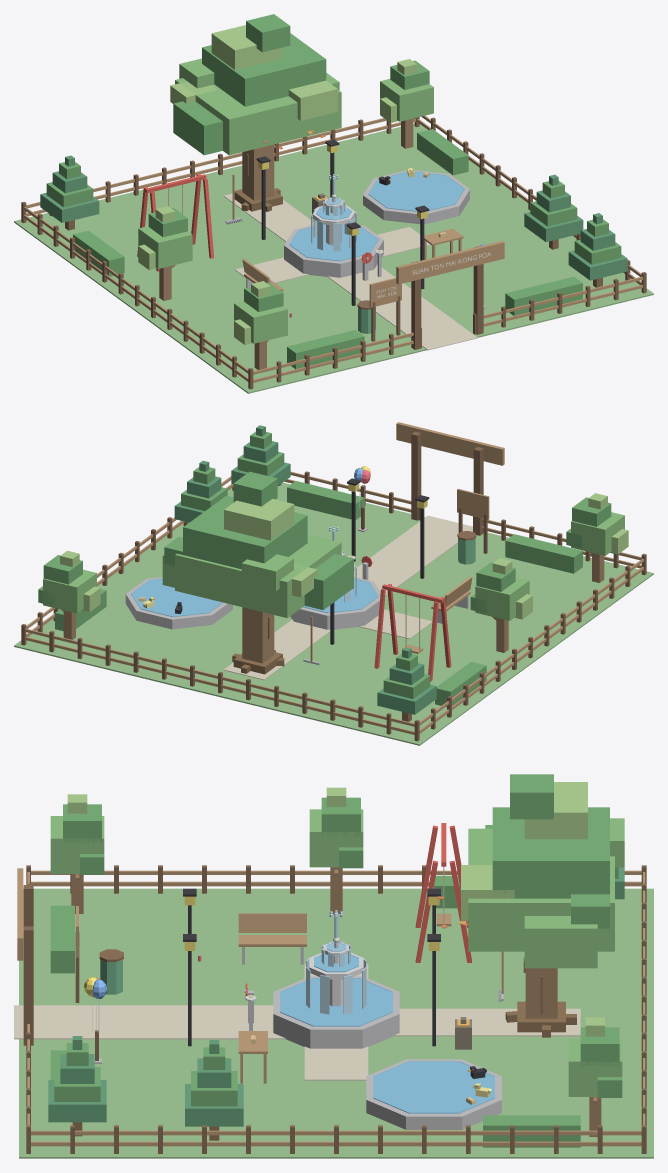
Rendered from house4_park.fbx.
The picture shows the model from 3 angles, top to bottom: view 1: azimuth 30°, elevation 25°; view 2: azimuth 150°, elevation 25°; view 3: azimuth 270°, elevation 25°; orthographic projection. The views are drawn at different scales.
Parts seen in each view (by area): view 1: grass, leaves, fence, path, canopy, fencepost, treetop.004, pondwater, treetop, treetop.003, treetop.001, treetop.002 (+17 smaller); view 2: grass, leaves, fence, path, canopy, fencepost, treetop.004, treetop.003, treetop, treetop.002, tonmaipoa, treetop.001 (+15 smaller); view 3: grass, leaves, path, fence, canopy, pondwater, fencepost, treetop.004, treetop.001, treetop.005, treetop.003, treetop (+16 smaller).
Part boxes in pixels (bbox=[...]): grass: bbox=[14, 123, 653, 393]; leaves: bbox=[170, 14, 339, 155]; fence: bbox=[24, 115, 642, 382]; path: bbox=[223, 193, 477, 350]; canopy: bbox=[175, 78, 341, 155]; fencepost: bbox=[21, 117, 646, 389]; treetop.004: bbox=[138, 206, 192, 270]; pondwater: bbox=[368, 171, 464, 211]; treetop: bbox=[234, 281, 287, 344]; treetop.003: bbox=[380, 59, 433, 122]; treetop.001: bbox=[568, 213, 627, 280]; treetop.002: bbox=[40, 155, 99, 222]; grass: bbox=[14, 482, 653, 745]; leaves: bbox=[162, 471, 353, 609]; fence: bbox=[25, 471, 643, 734]; path: bbox=[224, 515, 472, 679]; canopy: bbox=[175, 534, 341, 617]; fencepost: bbox=[21, 471, 646, 741]; treetop.004: bbox=[470, 558, 532, 620]; treetop.003: bbox=[38, 550, 100, 613]; treetop: bbox=[566, 493, 628, 555]; treetop.002: bbox=[377, 647, 436, 714]; tonmaipoa: bbox=[232, 607, 284, 674]; treetop.001: bbox=[231, 425, 290, 485]; grass: bbox=[19, 888, 653, 1158]; leaves: bbox=[461, 774, 624, 968]; path: bbox=[14, 964, 580, 1080]; fence: bbox=[27, 870, 645, 1146]; canopy: bbox=[468, 828, 614, 951]; pondwater: bbox=[373, 1061, 494, 1113]; fencepost: bbox=[26, 865, 646, 1153]; treetop.004: bbox=[309, 787, 363, 868]; treetop.001: bbox=[48, 1036, 106, 1122]; treetop.005: bbox=[185, 1040, 243, 1126]; treetop.003: bbox=[568, 1017, 622, 1097]; treetop: bbox=[50, 794, 104, 874].
Size of the model in its own units: 13 by 5.54 by 13.1.
